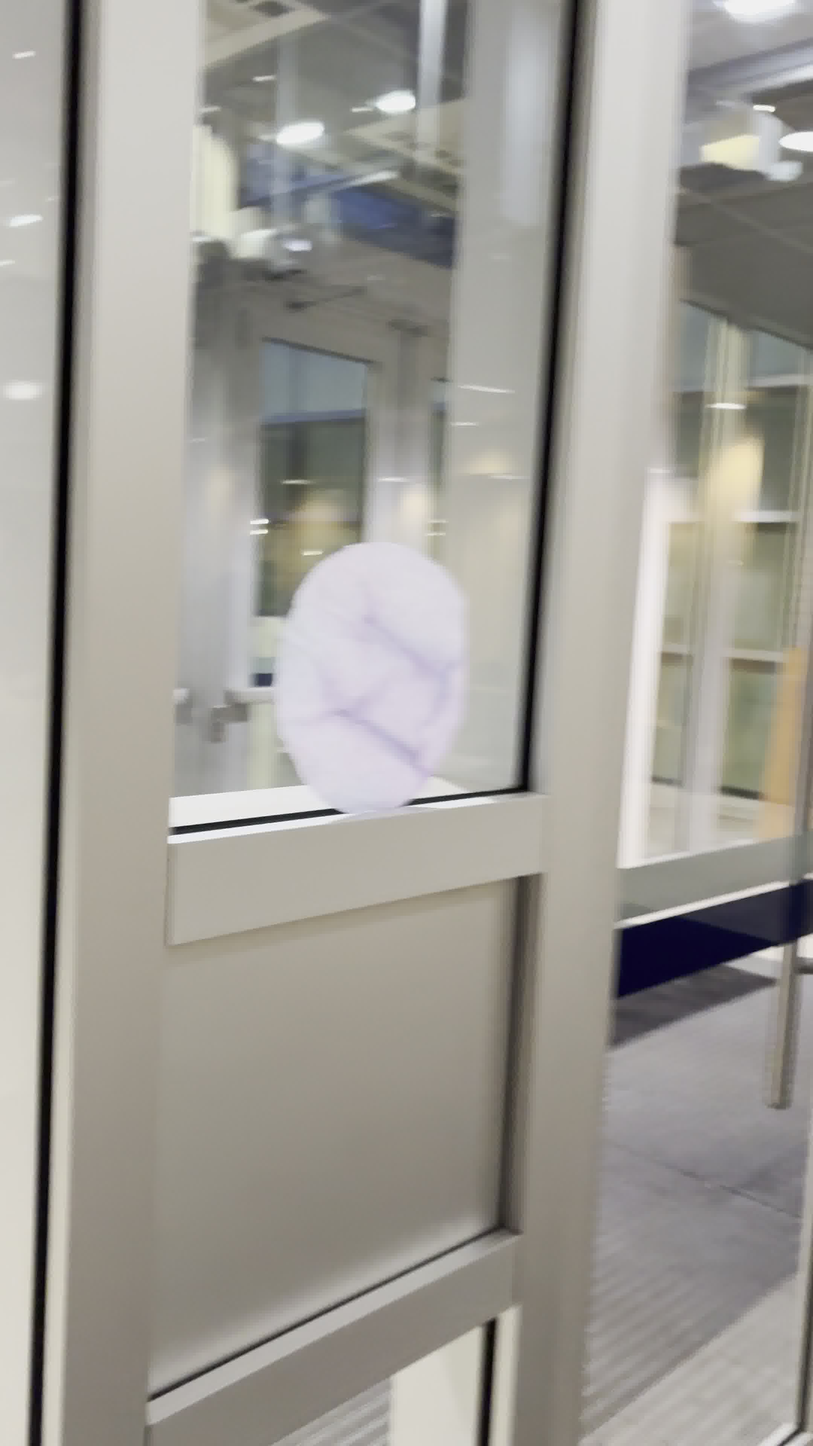Target: (274, 542, 468, 813)
